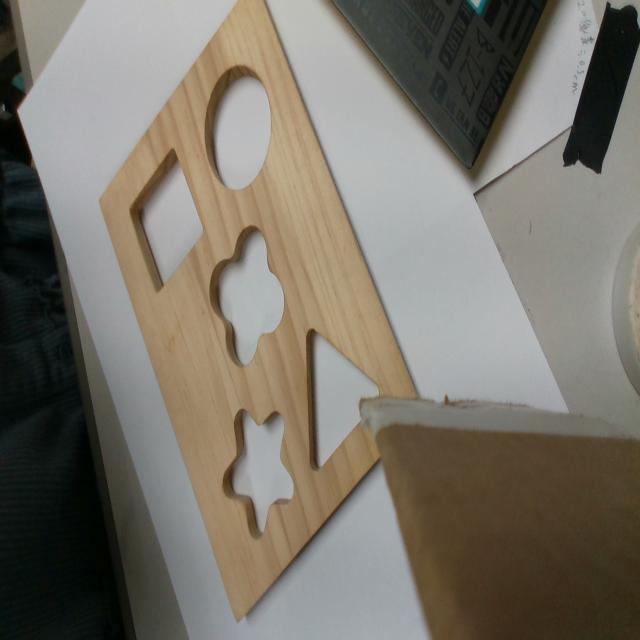circle: (207, 68, 272, 186)
flower: (208, 227, 287, 365)
square: (130, 146, 206, 290)
star: (222, 406, 294, 539)
triangle: (306, 329, 380, 476)
